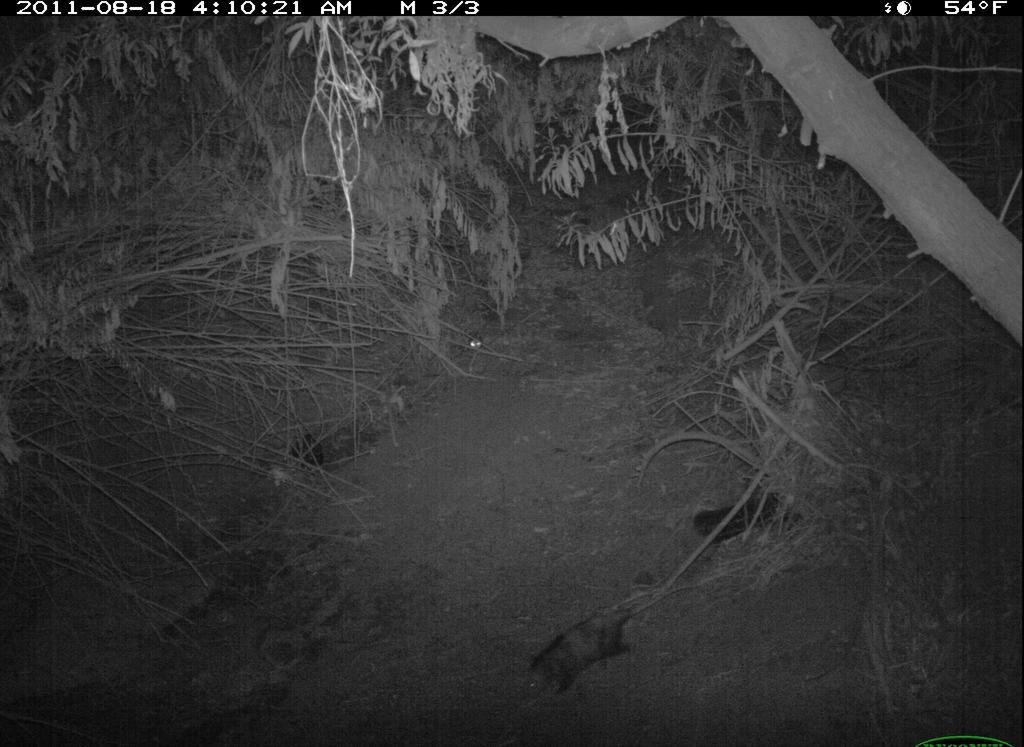opossum: (518, 582, 698, 707)
